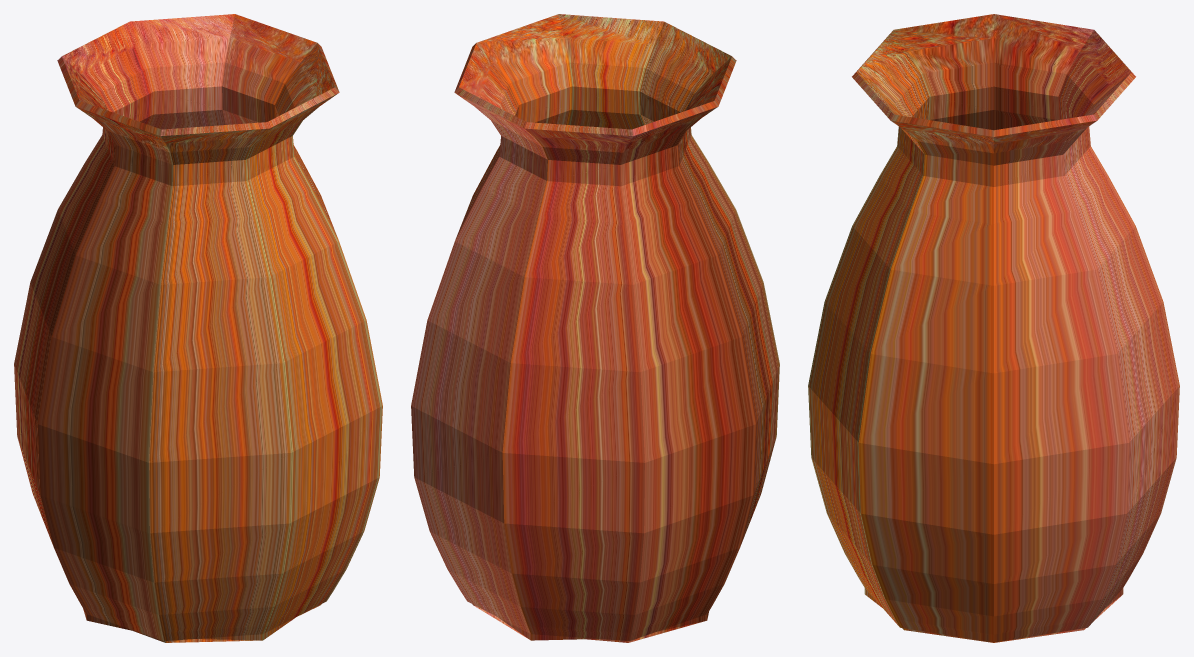
The model's file is Vaso.obj.
3 renders of one model, left to right at view 1: azimuth 30°, elevation 25°; view 2: azimuth 150°, elevation 25°; view 3: azimuth 270°, elevation 25°, orthographic.
Visible parts, largest first — view 1: Vaso_Plane.001; view 2: Vaso_Plane.001; view 3: Vaso_Plane.001.
Boxes of the visible parts, x1,y1,x2,y2 form: Vaso_Plane.001: (14,14,382,642); Vaso_Plane.001: (411,14,779,642); Vaso_Plane.001: (808,14,1179,642).
Size of the model in its own units: 0.5275 by 0.8176 by 0.5275.
Materials: 1 (1 with a texture image).
